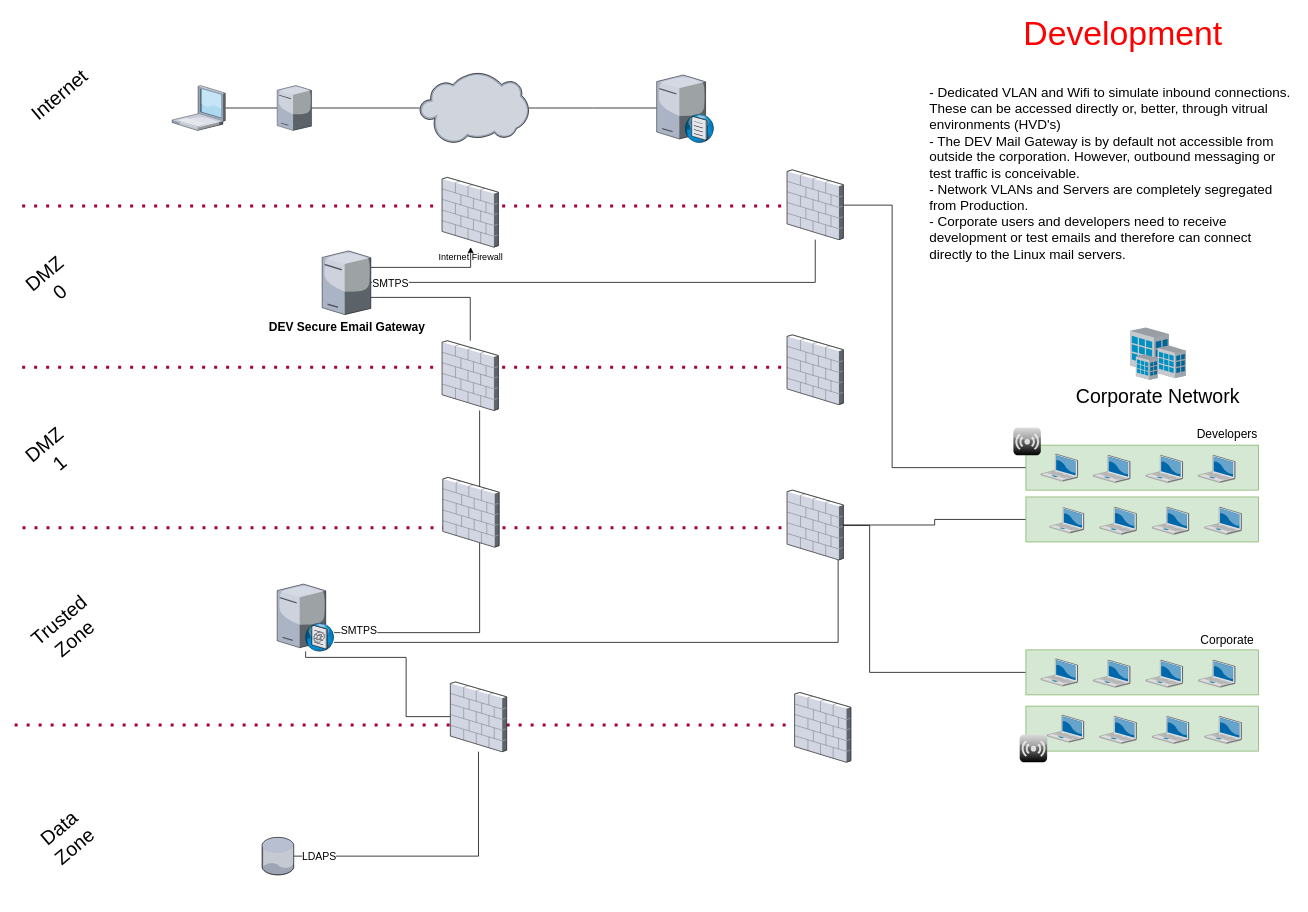
This 1308x912 diagram has some shape labels left out. The shapes that lost their labels are listed below. From the top down, each one's box as (x1, y1, x2, y2) in pixels, then its label:
(277, 582, 334, 651): Linux mail server
(262, 837, 294, 874): LDAP
